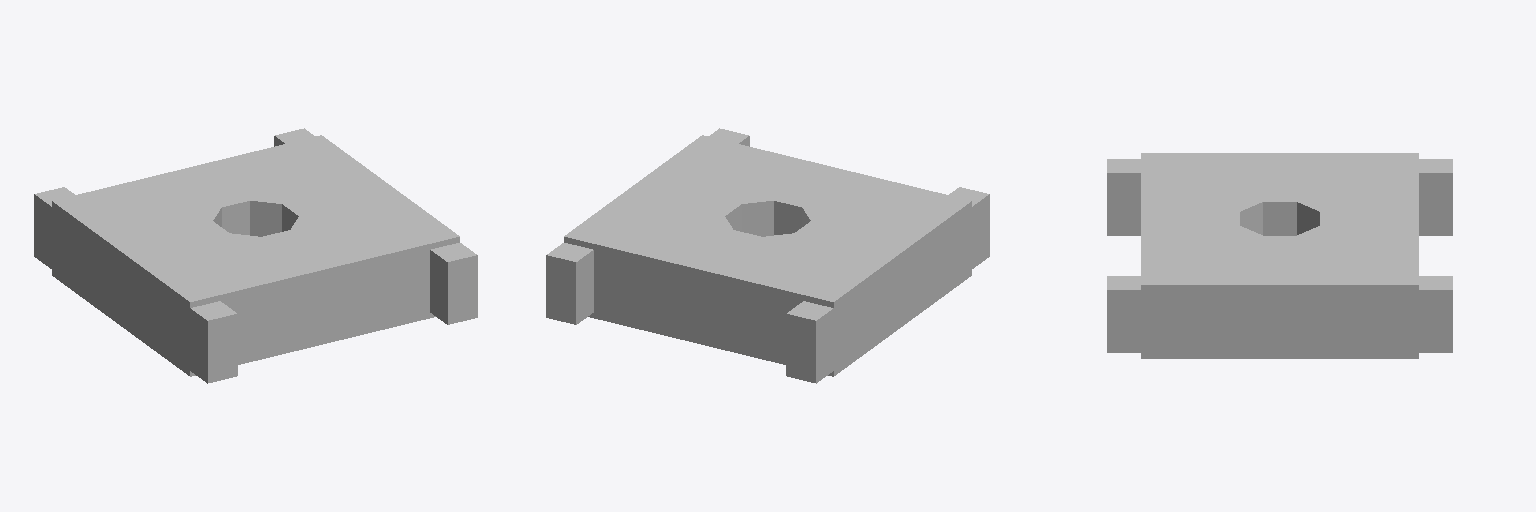
Rendered from elevator-stage-2.obj.
3 renders of one model, left to right at view 1: azimuth 30°, elevation 25°; view 2: azimuth 150°, elevation 25°; view 3: azimuth 270°, elevation 25°, orthographic.
Parts seen in each view (by area): view 1: mesh21, mesh14, mesh15, mesh12, mesh19, mesh13, mesh23, mesh24; view 2: mesh21, mesh4, mesh15, mesh7, mesh3, mesh6, mesh29, mesh28; view 3: mesh21, mesh9, mesh1, mesh18, mesh26, mesh25, mesh27.
Part boxes in pixels (bbox=[...]): mesh21: bbox=[53, 135, 459, 301]; mesh14: bbox=[190, 237, 459, 376]; mesh15: bbox=[34, 194, 207, 383]; mesh12: bbox=[448, 255, 477, 324]; mesh19: bbox=[208, 314, 237, 382]; mesh13: bbox=[430, 250, 447, 324]; mesh23: bbox=[250, 201, 281, 236]; mesh24: bbox=[222, 201, 249, 234]; mesh21: bbox=[564, 135, 970, 301]; mesh4: bbox=[564, 237, 833, 376]; mesh15: bbox=[816, 194, 989, 383]; mesh7: bbox=[546, 255, 575, 324]; mesh3: bbox=[786, 314, 815, 382]; mesh6: bbox=[576, 250, 593, 324]; mesh29: bbox=[742, 201, 773, 236]; mesh28: bbox=[774, 201, 801, 234]; mesh21: bbox=[1141, 153, 1418, 284]; mesh9: bbox=[1107, 285, 1452, 358]; mesh1: bbox=[1419, 173, 1452, 235]; mesh18: bbox=[1107, 173, 1140, 235]; mesh26: bbox=[1263, 202, 1296, 235]; mesh25: bbox=[1297, 202, 1319, 234]; mesh27: bbox=[1240, 202, 1262, 234].
Bounding box in the file's own units: 0.2286 × 0.0603 × 0.254.